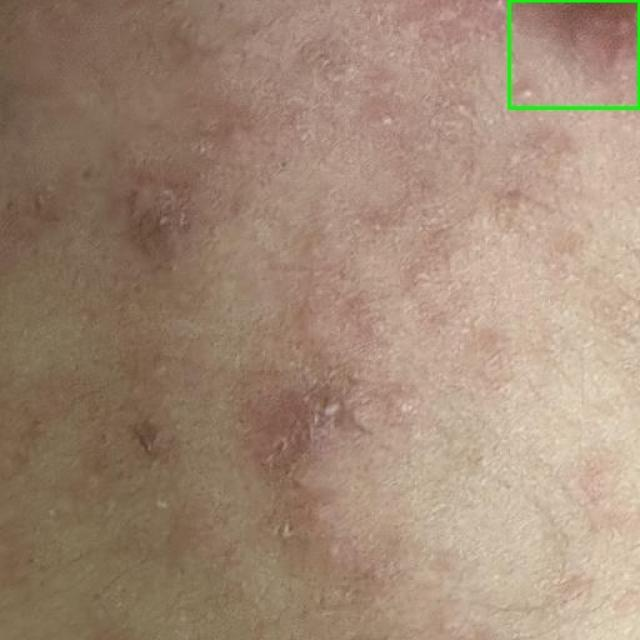Scabies: (509, 0, 639, 108)
